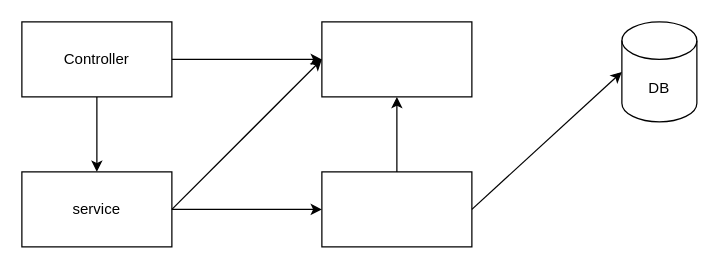
This 719x269 diagram has some shape labels left out. The box of each missing label's shape, as (x1, y1, x2, y2) in pixels:
domain: (321, 21, 472, 97)
repository: (321, 171, 472, 247)
